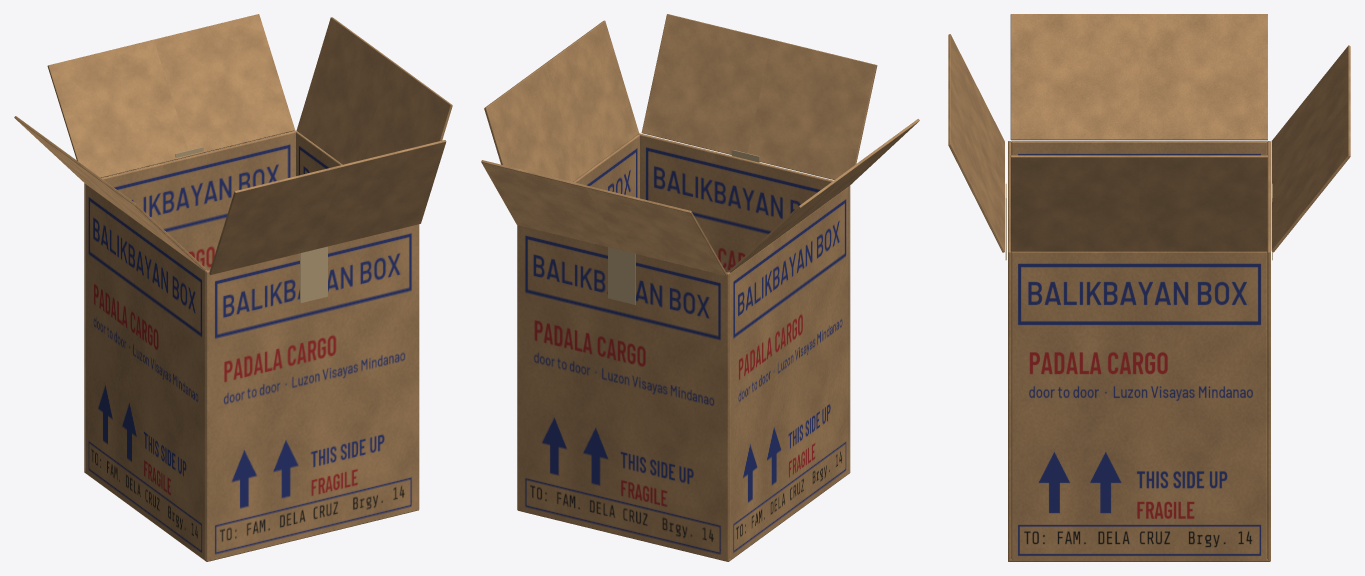
The model's file is lootbox_balikbayan_open.glb.
3 renders of one model, left to right at view 1: azimuth 30°, elevation 25°; view 2: azimuth 150°, elevation 25°; view 3: azimuth 270°, elevation 25°, orthographic. The views are drawn at different scales.
Visible parts, largest first — view 1: box_back, box_left, flap_y0, flap_y1, flap_x0, box_front, flap_x1, tape3, box_right; view 2: box_front, box_left, flap_y1, flap_x0, box_back, flap_y0, flap_x1, box_right, tape2; view 3: box_right, flap_x1, flap_x0, flap_y0, flap_y1, box_left, box_front, box_back.
Boxes of the visible parts, left/top/right/bottom form: box_back: left=205, top=224, right=419, bottom=561; box_left: left=85, top=184, right=206, bottom=559; flap_y0: left=47, top=14, right=294, bottom=177; flap_y1: left=209, top=140, right=446, bottom=274; flap_x0: left=296, top=17, right=452, bottom=164; box_front: left=84, top=130, right=297, bottom=472; flap_x1: left=14, top=116, right=206, bottom=270; tape3: left=300, top=246, right=327, bottom=303; box_right: left=296, top=131, right=342, bottom=175; box_front: left=517, top=225, right=729, bottom=561; box_left: left=728, top=187, right=848, bottom=559; flap_y1: left=641, top=14, right=877, bottom=184; flap_x0: left=484, top=20, right=639, bottom=181; box_back: left=638, top=133, right=850, bottom=472; flap_y0: left=481, top=160, right=726, bottom=275; flap_x1: left=729, top=119, right=919, bottom=272; box_right: left=573, top=134, right=639, bottom=198; tape2: left=608, top=247, right=635, bottom=304; box_right: left=1011, top=251, right=1267, bottom=561; flap_x1: left=1010, top=14, right=1267, bottom=140; flap_x0: left=1010, top=155, right=1267, bottom=251; flap_y0: left=1271, top=45, right=1350, bottom=252; flap_y1: left=948, top=34, right=1004, bottom=252; box_left: left=1011, top=141, right=1267, bottom=155; box_front: left=1267, top=141, right=1270, bottom=561; box_back: left=1008, top=141, right=1011, bottom=561.
Bounding box in the file's own units: 0.6886 × 0.8186 × 0.7042.
Materials: 3 (2 with a texture image).
